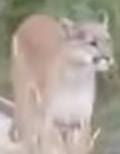Mountain Lion: (10, 11, 114, 147)
